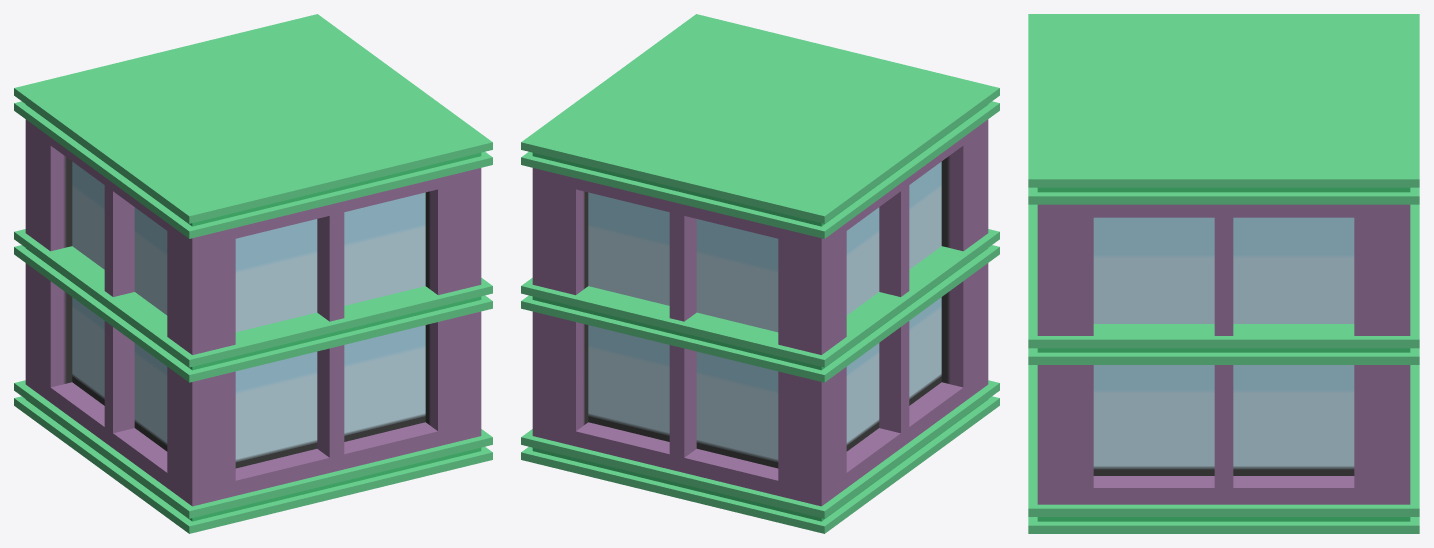
Rendered from Tower_4.fbx.
3 views of the same model, side by side, from view 1: azimuth 30°, elevation 25°; view 2: azimuth 150°, elevation 25°; view 3: azimuth 270°, elevation 25° (orthographic). The views are drawn at different scales.
Visible parts, largest first — view 1: Box; view 2: Box; view 3: Box.
Part boxes in pixels (x1,y1,x2,y2): Box: (14, 14, 492, 533); Box: (521, 14, 999, 533); Box: (1028, 14, 1419, 533).
Bounding box in the file's own units: 42 × 42 × 42.
1 material, 1 textured.
